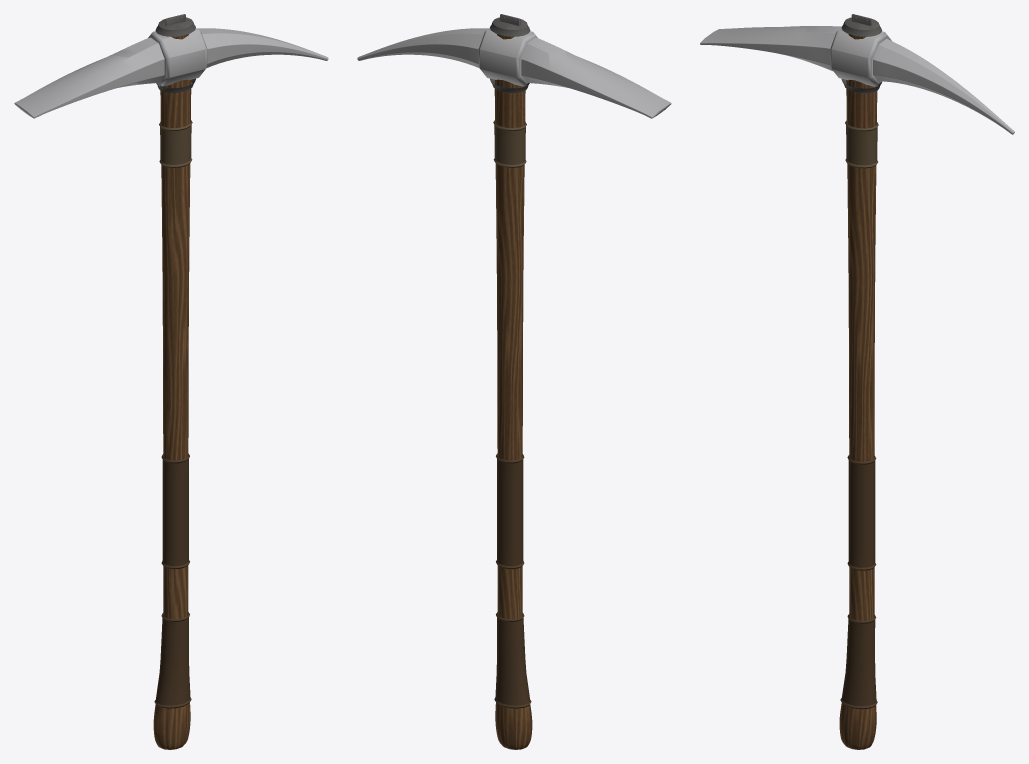
The model's file is gear_frontier_pick.glb.
3 renders of one model, left to right at view 1: azimuth 30°, elevation 25°; view 2: azimuth 150°, elevation 25°; view 3: azimuth 330°, elevation 25°, orthographic.
Parts seen in each view (by area): view 1: gear_frontier_pick; view 2: gear_frontier_pick; view 3: gear_frontier_pick.
Boxes of the visible parts, x1=… form: gear_frontier_pick: x1=14, y1=14, x2=328, y2=749; gear_frontier_pick: x1=357, y1=14, x2=671, y2=749; gear_frontier_pick: x1=700, y1=14, x2=1014, y2=749.
Bounding box in the file's own units: 0.6022 × 1.38 × 0.0817.
5 materials, 1 textured.
